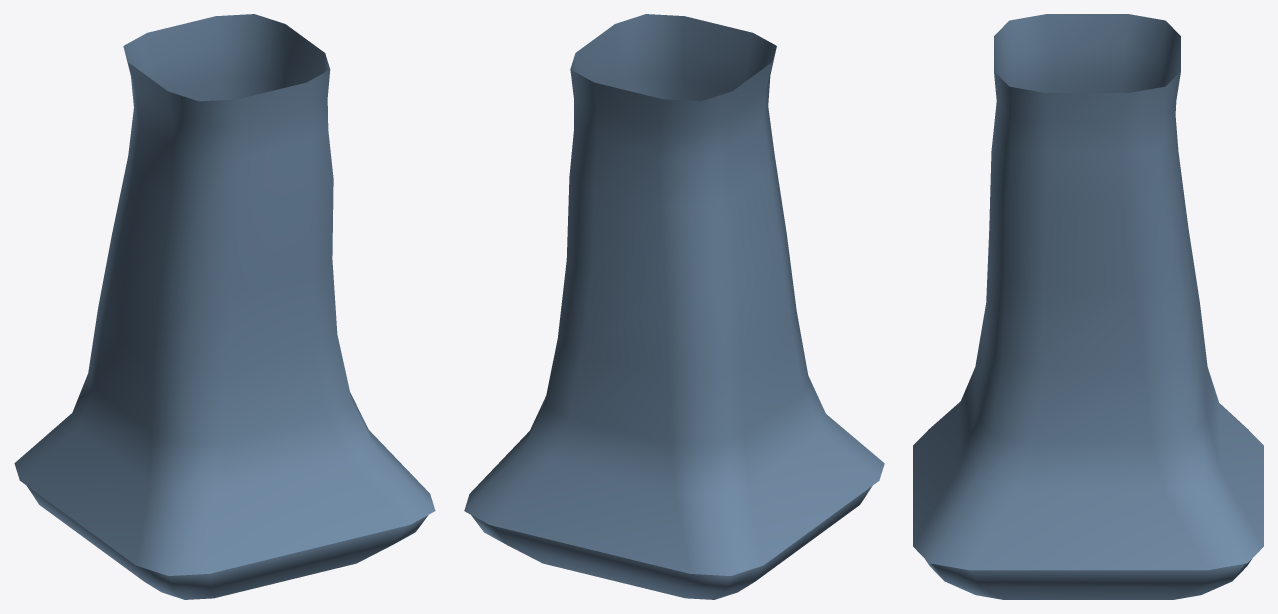
File: Tornado_Square.fbx
The picture shows the model from 3 angles, left to right: view 1: azimuth 30°, elevation 25°; view 2: azimuth 150°, elevation 25°; view 3: azimuth 270°, elevation 25°; orthographic projection. The views are drawn at different scales.
Visible parts, largest first — view 1: Tornado_Mesh_Square, Tornado_Ring_Square; view 2: Tornado_Mesh_Square, Tornado_Ring_Square; view 3: Tornado_Mesh_Square, Tornado_Ring_Square.
Boxes of the visible parts, bbox=[...] form: Tornado_Mesh_Square: bbox=[14, 14, 435, 575]; Tornado_Ring_Square: bbox=[26, 485, 428, 599]; Tornado_Mesh_Square: bbox=[464, 14, 884, 575]; Tornado_Ring_Square: bbox=[471, 486, 872, 599]; Tornado_Mesh_Square: bbox=[913, 14, 1263, 570]; Tornado_Ring_Square: bbox=[925, 559, 1251, 599].
Bounding box in the file's own units: 1.48 × 2.3 × 1.48.
